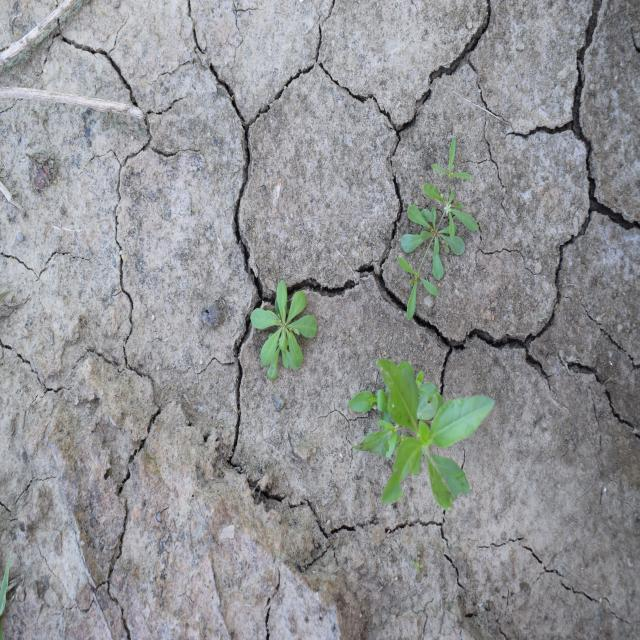Carpetweed: (396, 134, 480, 322), (249, 276, 319, 382)
Eclipta: (347, 356, 496, 512)
